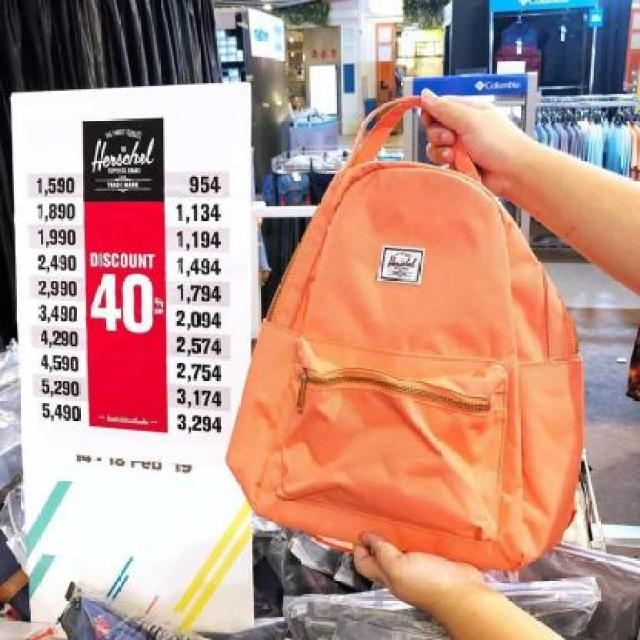Bag: (201, 58, 617, 587)
